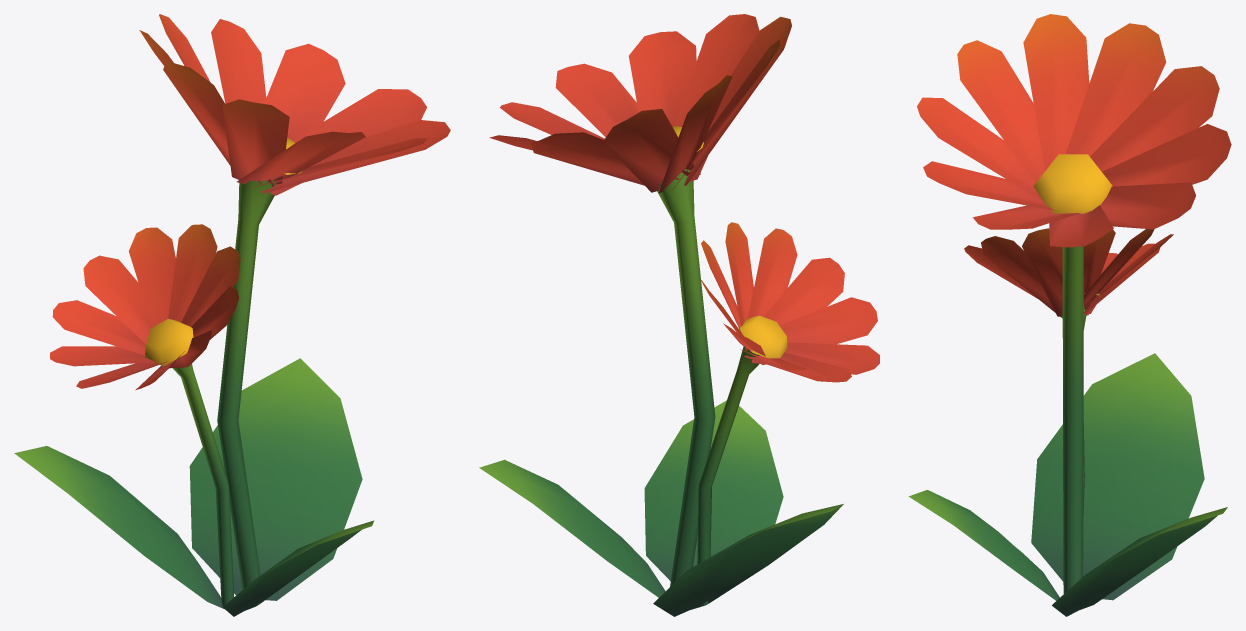
File: Flower_010.fbx
3 renders of one model, left to right at view 1: azimuth 30°, elevation 25°; view 2: azimuth 150°, elevation 25°; view 3: azimuth 270°, elevation 25°, orthographic. The views are drawn at different scales.
Visible parts, largest first — view 1: Flower.010; view 2: Flower.010; view 3: Flower.010.
Boxes of the visible parts, <box> form: Flower.010: <box>14,14,450,616</box>; Flower.010: <box>479,14,879,616</box>; Flower.010: <box>908,14,1231,616</box>.
Bounding box in the file's own units: 1.66 × 2.45 × 1.3.
